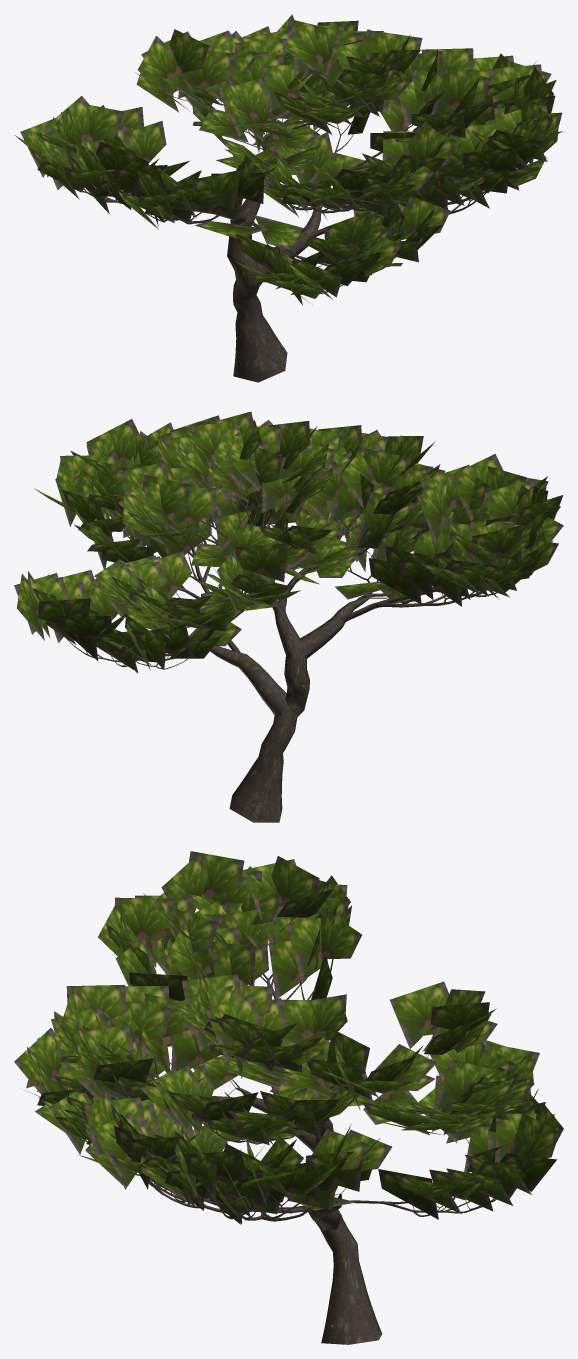
The model's file is KB3D_SHA_MatsuPine_A_grp.fbx.
The picture shows the model from 3 angles, top to bottom: view 1: azimuth 30°, elevation 25°; view 2: azimuth 150°, elevation 25°; view 3: azimuth 270°, elevation 25°; orthographic projection. The views are drawn at different scales.
Parts seen in each view (by area): view 1: KB3D_SHA_MatsuPine_A_Main; view 2: KB3D_SHA_MatsuPine_A_Main; view 3: KB3D_SHA_MatsuPine_A_Main.
Boxes of the visible parts, x1=… form: KB3D_SHA_MatsuPine_A_Main: x1=14, y1=14, x2=562, y2=382; KB3D_SHA_MatsuPine_A_Main: x1=14, y1=411, x2=563, y2=822; KB3D_SHA_MatsuPine_A_Main: x1=14, y1=851, x2=563, y2=1344.
Size of the model in its own units: 370 by 243 by 315.
